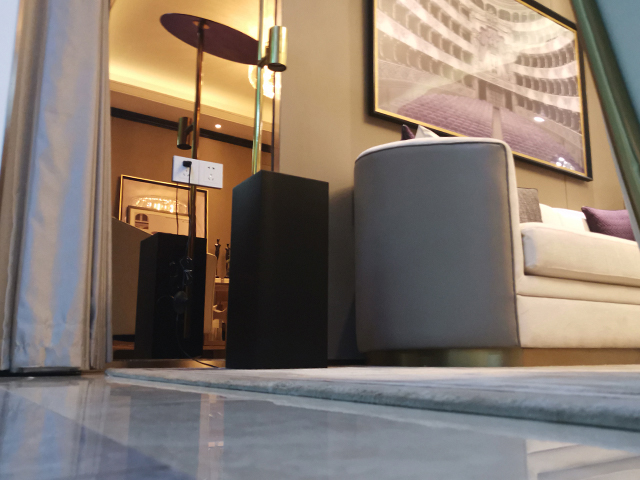carpet: (105, 364, 640, 434)
curtain: (1, 1, 116, 379)
sofa: (352, 122, 640, 368)
wire: (191, 358, 220, 368)
